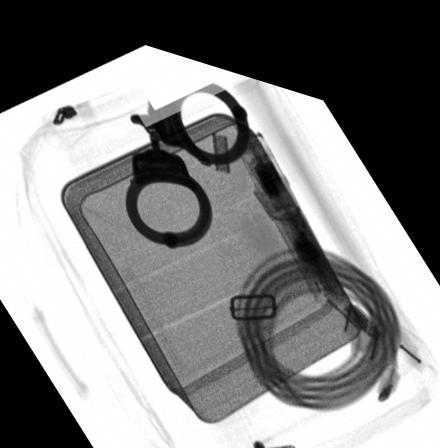Baton: (231, 115, 348, 286)
HandCuffs: (122, 68, 252, 238)
